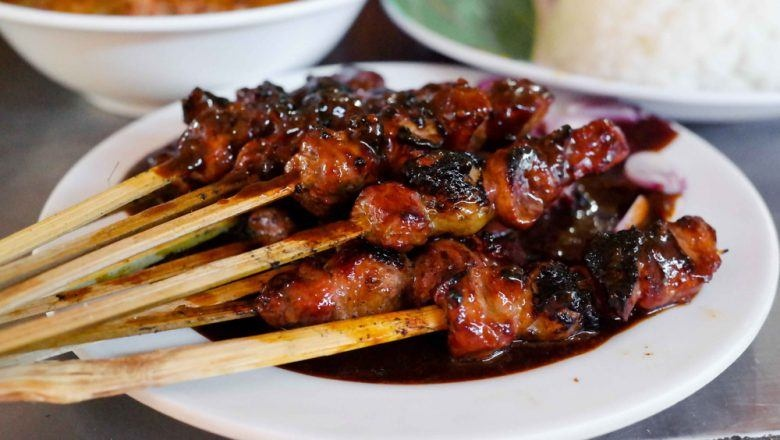sate: (139, 66, 720, 362)
